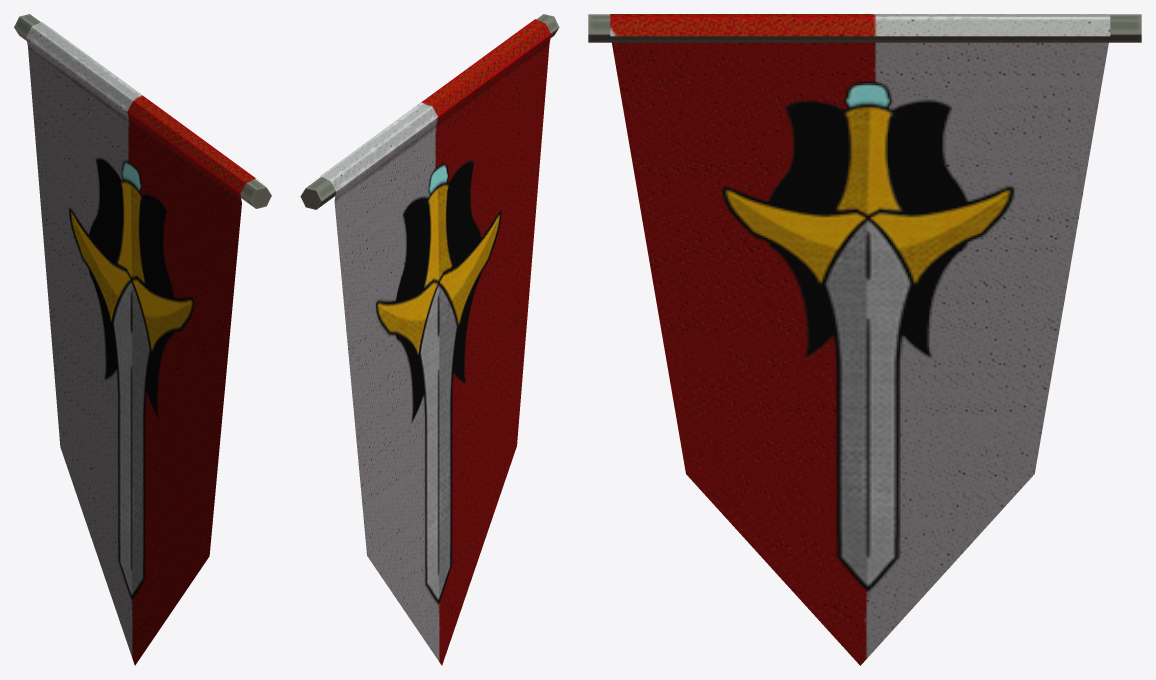
The model's file is Estandarte01.fbx.
The picture shows the model from 3 angles, left to right: view 1: azimuth 30°, elevation 25°; view 2: azimuth 150°, elevation 25°; view 3: azimuth 270°, elevation 25°; orthographic projection. The views are drawn at different scales.
Parts seen in each view (by area): view 1: Estandarte; view 2: Estandarte; view 3: Estandarte.
Part boxes in pixels (box(x1,y1,x2,y2)): Estandarte: box(14, 14, 271, 665); Estandarte: box(300, 14, 559, 665); Estandarte: box(588, 14, 1141, 665).
Bounding box in the file's own units: 23.21 × 458 × 350.
